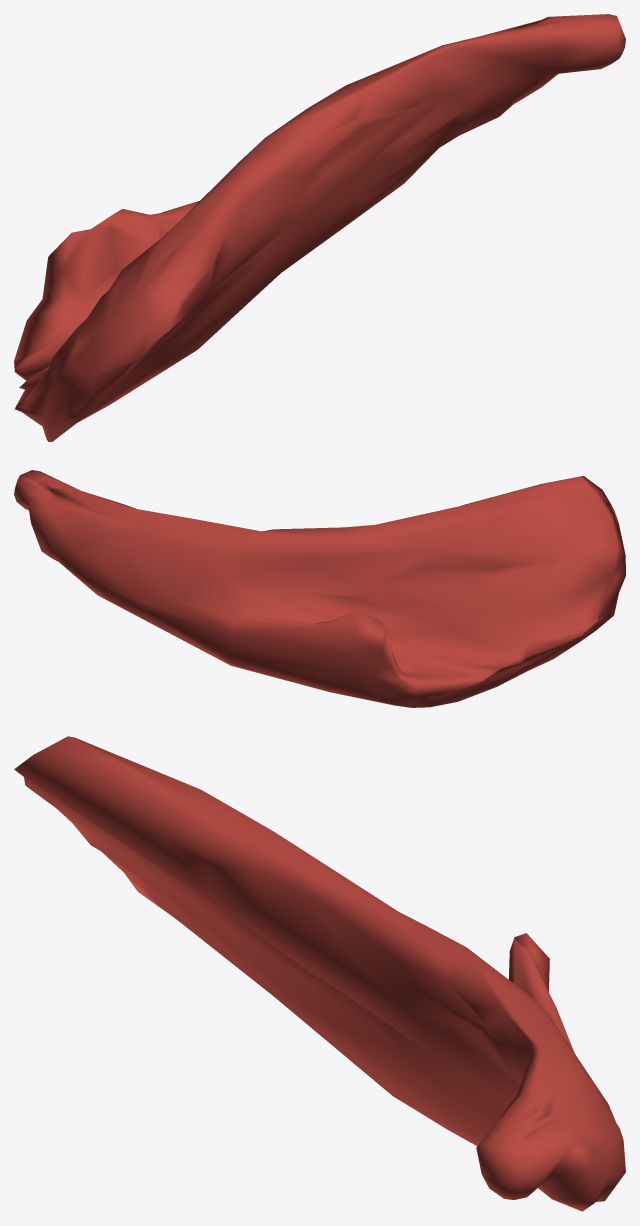
File: musculos-obturator-externus-l.glb
The picture shows the model from 3 angles, top to bottom: view 1: azimuth 30°, elevation 25°; view 2: azimuth 150°, elevation 25°; view 3: azimuth 270°, elevation 25°; orthographic projection. The views are drawn at different scales.
Parts seen in each view (by area): view 1: Obturator externus.l; view 2: Obturator externus.l; view 3: Obturator externus.l.
Part boxes in pixels (bbox=[...]): Obturator externus.l: bbox=[14, 14, 625, 441]; Obturator externus.l: bbox=[14, 470, 625, 707]; Obturator externus.l: bbox=[14, 736, 625, 1211].
Size of the model in its own units: 0.0995 by 0.0309 by 0.0582.
